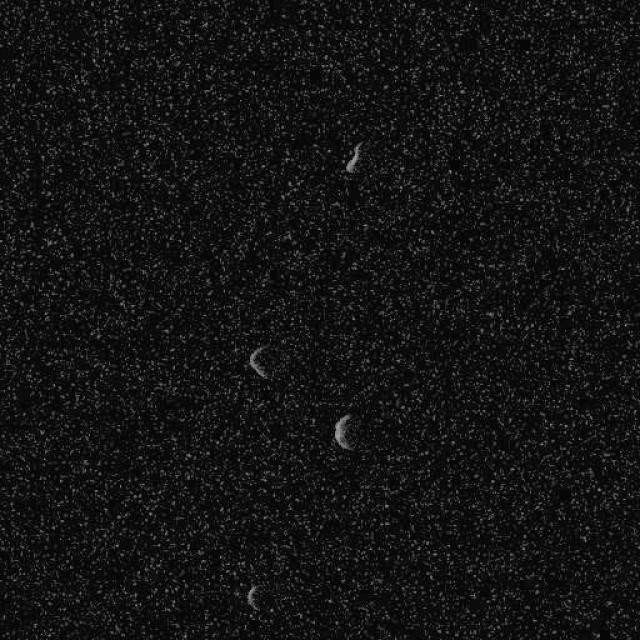D2: (331, 411, 360, 451), (248, 344, 272, 380), (344, 140, 364, 174), (245, 582, 260, 610)
